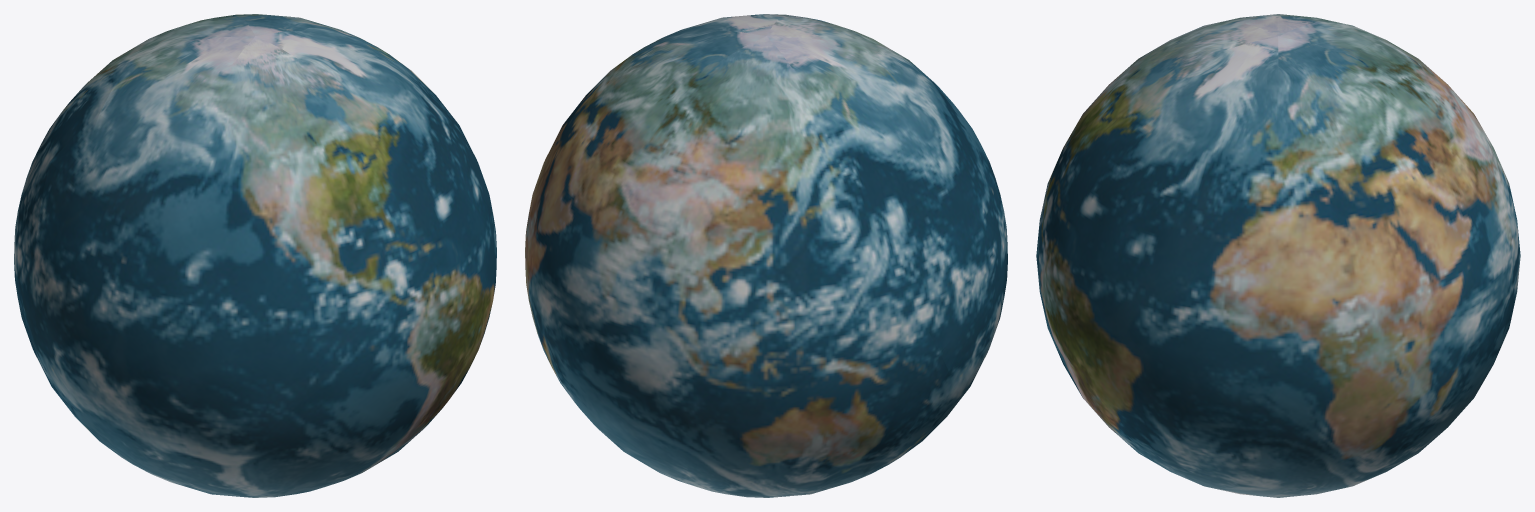
The picture shows the model from 3 angles, left to right: view 1: azimuth 30°, elevation 25°; view 2: azimuth 150°, elevation 25°; view 3: azimuth 270°, elevation 25°; orthographic projection.
Parts seen in each view (by area): view 1: 3DSMeshMatrix; view 2: 3DSMeshMatrix; view 3: 3DSMeshMatrix.
Part boxes in pixels (box(x1,y1,x2,y2)): 3DSMeshMatrix: box(14, 14, 496, 497); 3DSMeshMatrix: box(525, 14, 1007, 497); 3DSMeshMatrix: box(1036, 14, 1520, 497).
Size of the model in its own units: 54.28 by 54.27 by 54.29.
1 material, 1 textured.
